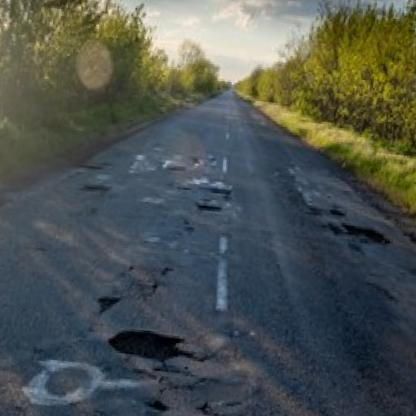pothole: (104, 324, 195, 365), (342, 222, 391, 245), (96, 293, 121, 318), (81, 181, 110, 193), (197, 202, 222, 214), (206, 185, 230, 194)
